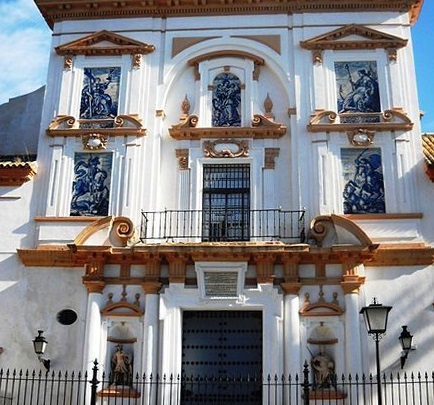fronton: (298, 24, 409, 53), (53, 29, 157, 57)
fronton-curvo: (100, 302, 144, 317), (298, 302, 344, 316)
fronton-partido: (68, 212, 383, 266), (166, 112, 289, 140), (305, 107, 415, 134), (45, 112, 147, 139)
vano-adintelado: (155, 286, 287, 405), (187, 144, 266, 244)
